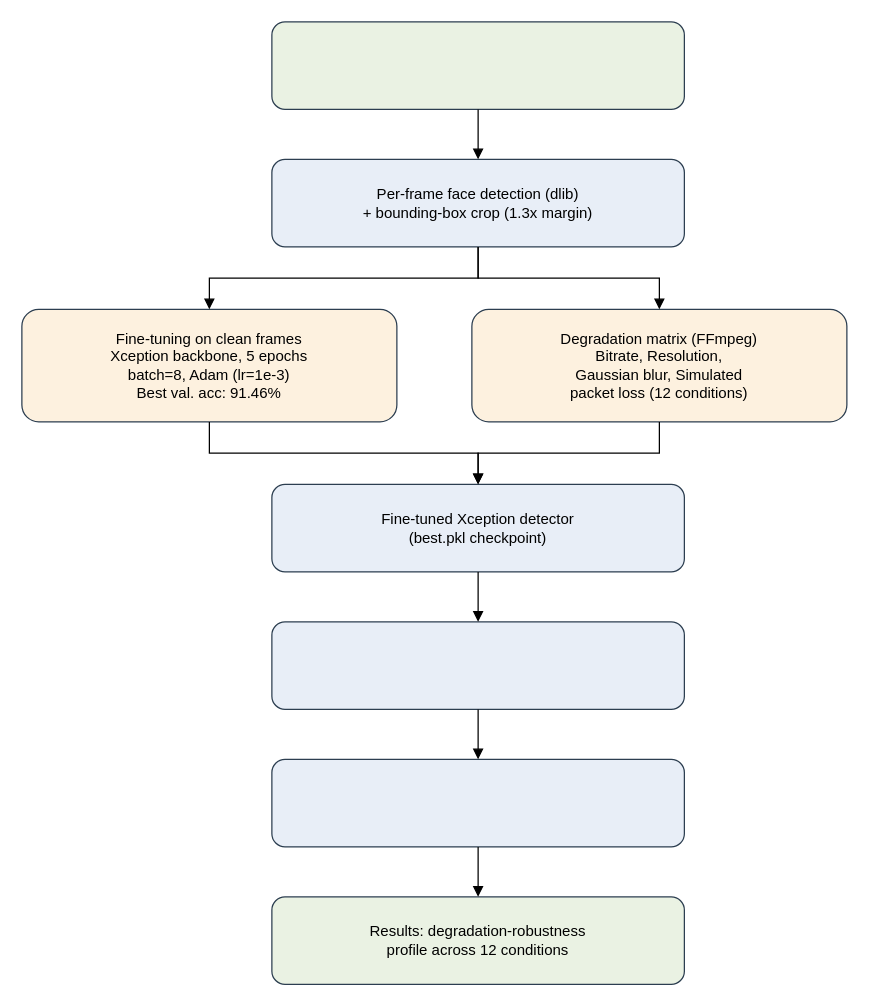
The diagram is 869 pixels wide and 1006 high, and some of its shapes have lost their labels. Each missing label, with the centre of its shape:
FaceForensics++ (C23) Balanced subset: 200 x 5 classes (1,000 videos): (477,65)
Per-condition evaluation: AUC, EER, Accuracy@0.5: (477,802)
Per-video inference: mean fake-probability over up to 10 sampled frames: (477,665)
